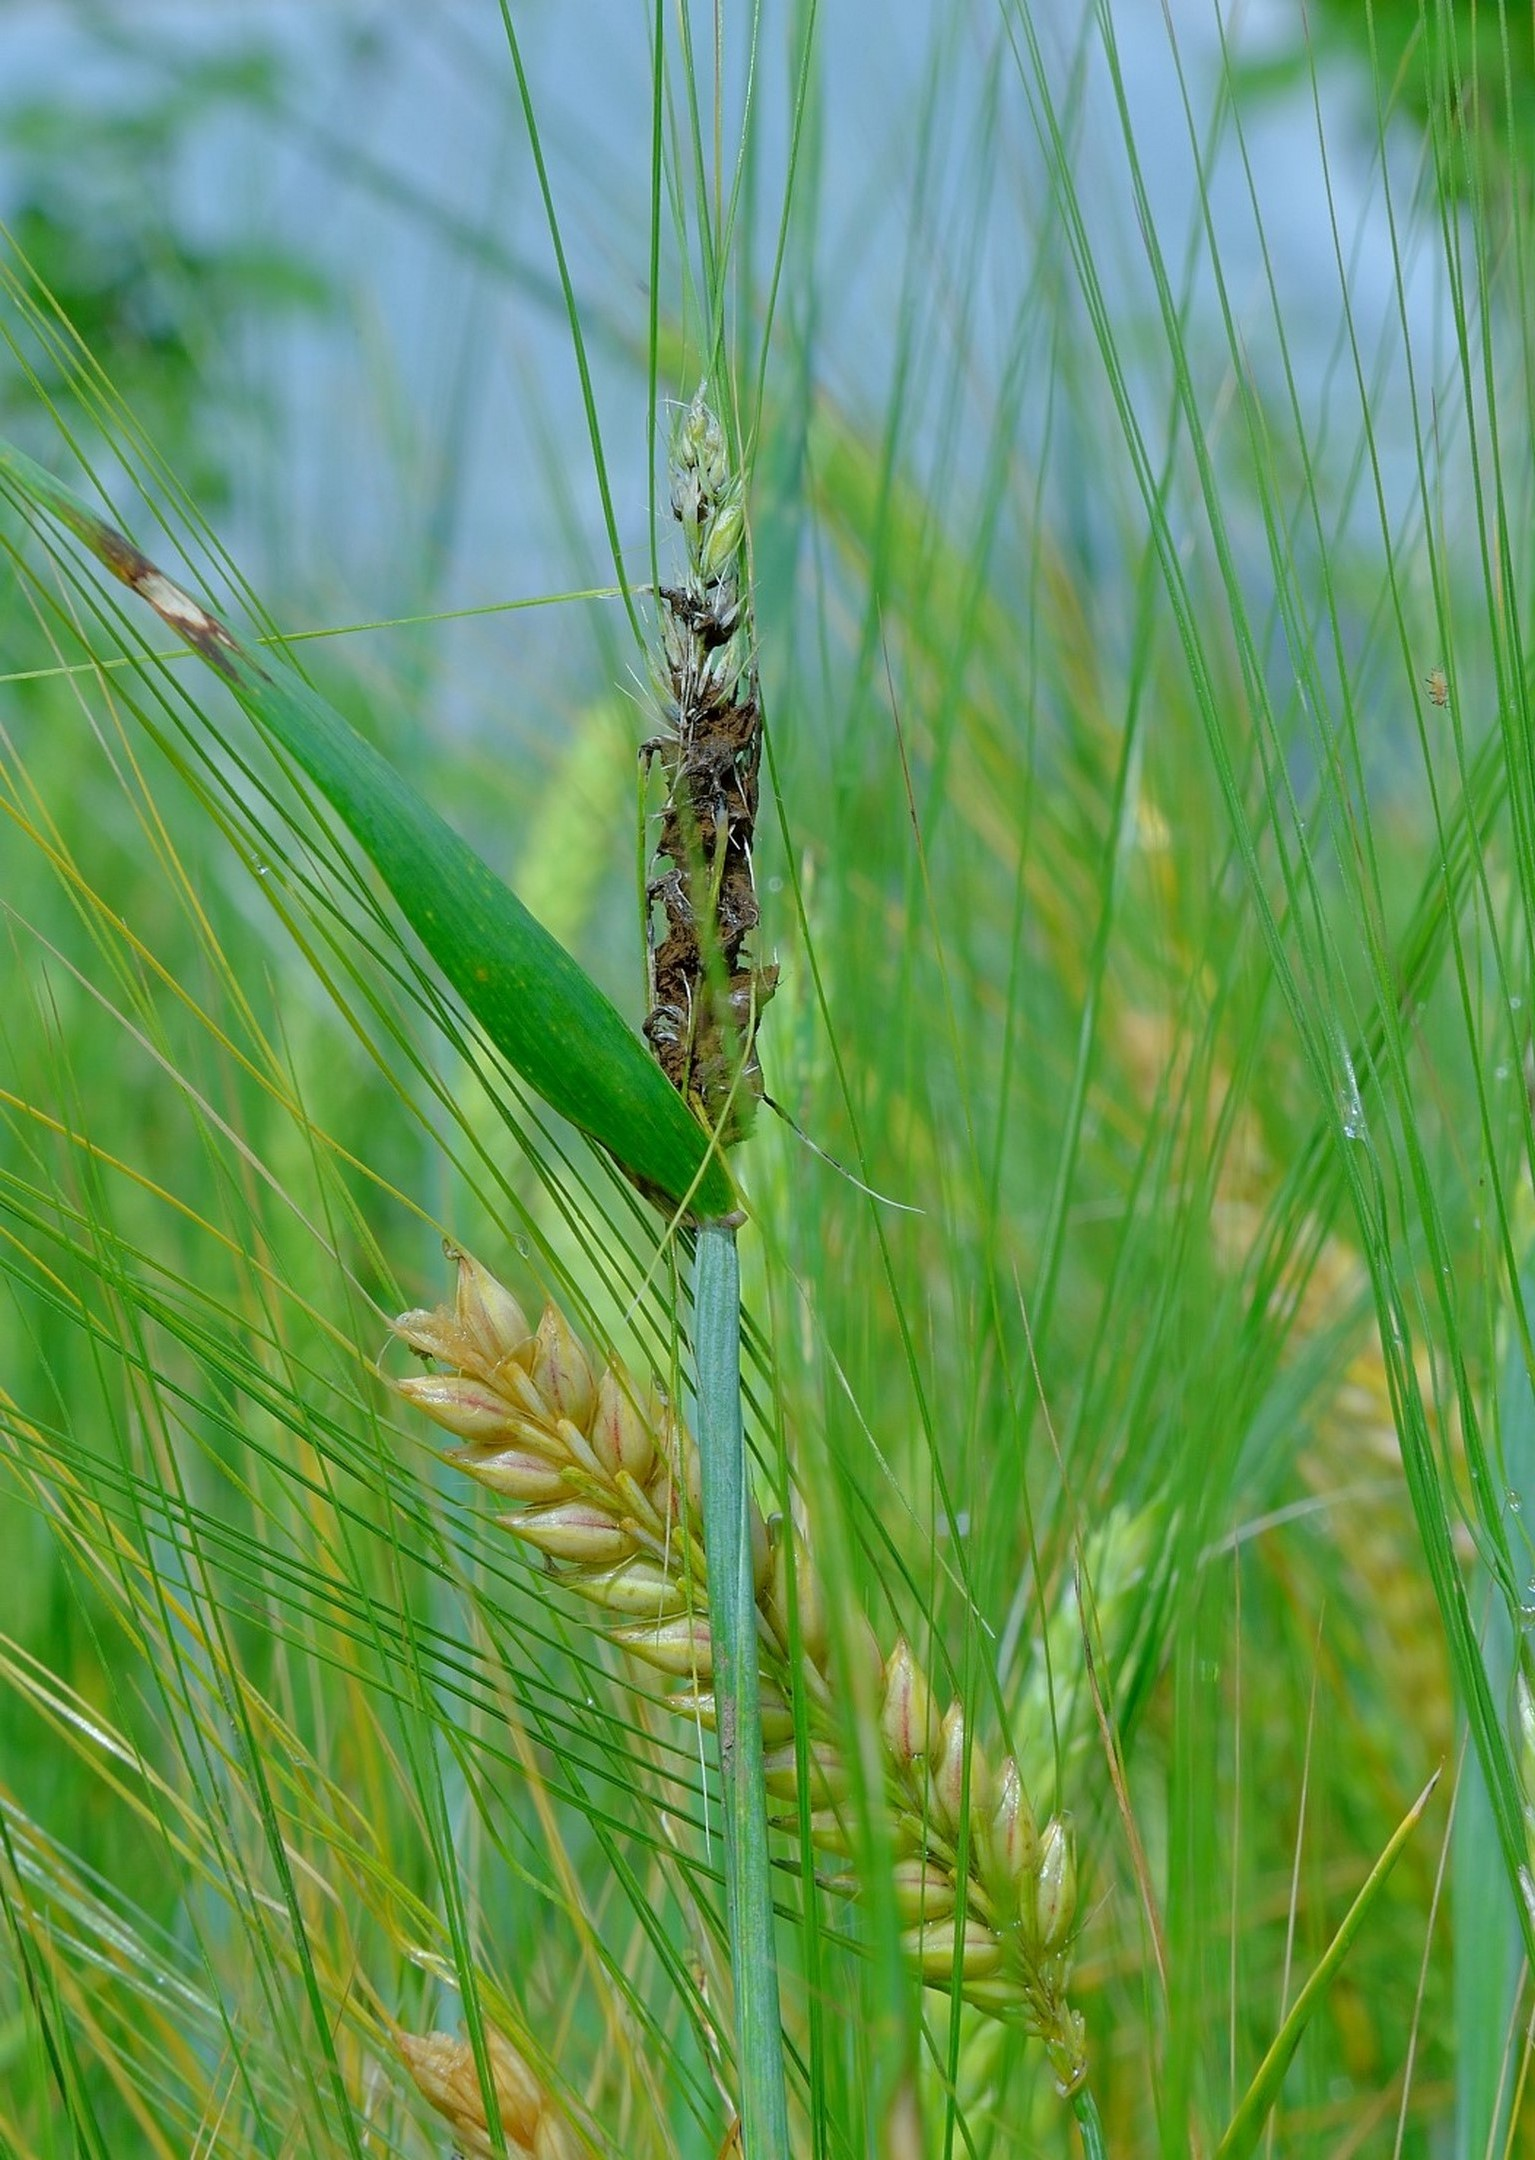Wheat Loose Smut: (576, 558, 847, 1248)
